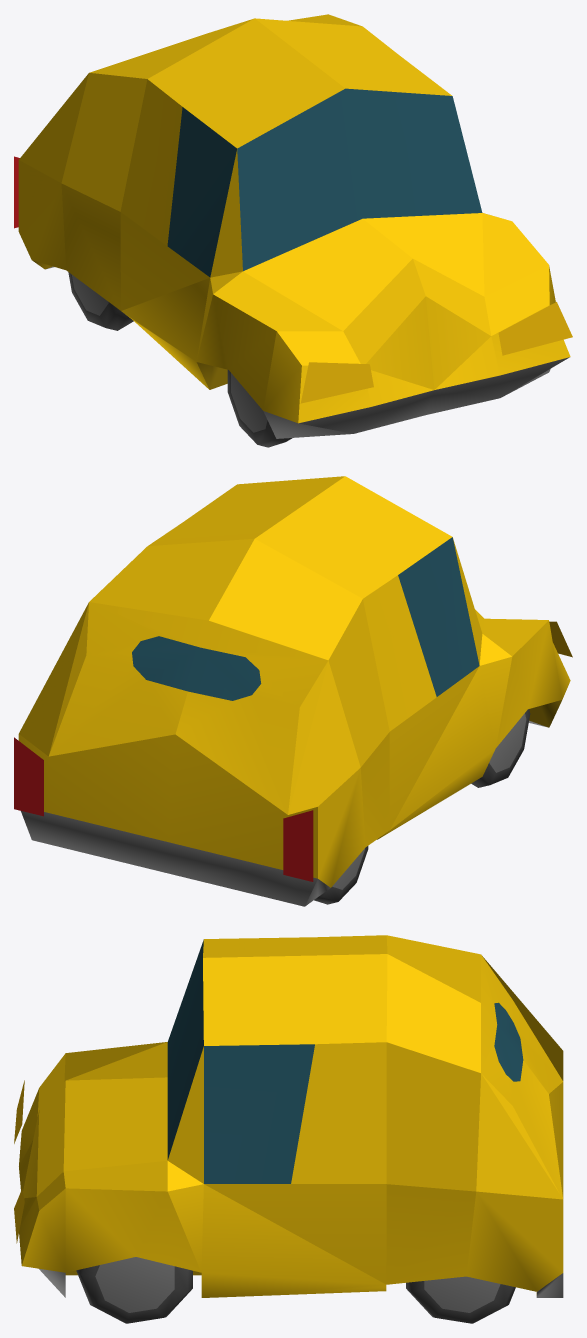
File: car.fbx
The picture shows the model from 3 angles, top to bottom: view 1: azimuth 30°, elevation 25°; view 2: azimuth 150°, elevation 25°; view 3: azimuth 270°, elevation 25°; orthographic projection.
Visible parts, largest first — view 1: Mesh; view 2: Mesh; view 3: Mesh.
Boxes of the visible parts, bbox=[...] form: Mesh: bbox=[14, 14, 572, 447]; Mesh: bbox=[14, 476, 572, 906]; Mesh: bbox=[14, 935, 563, 1323].
Bounding box in the file's own units: 146 × 143 × 232.
